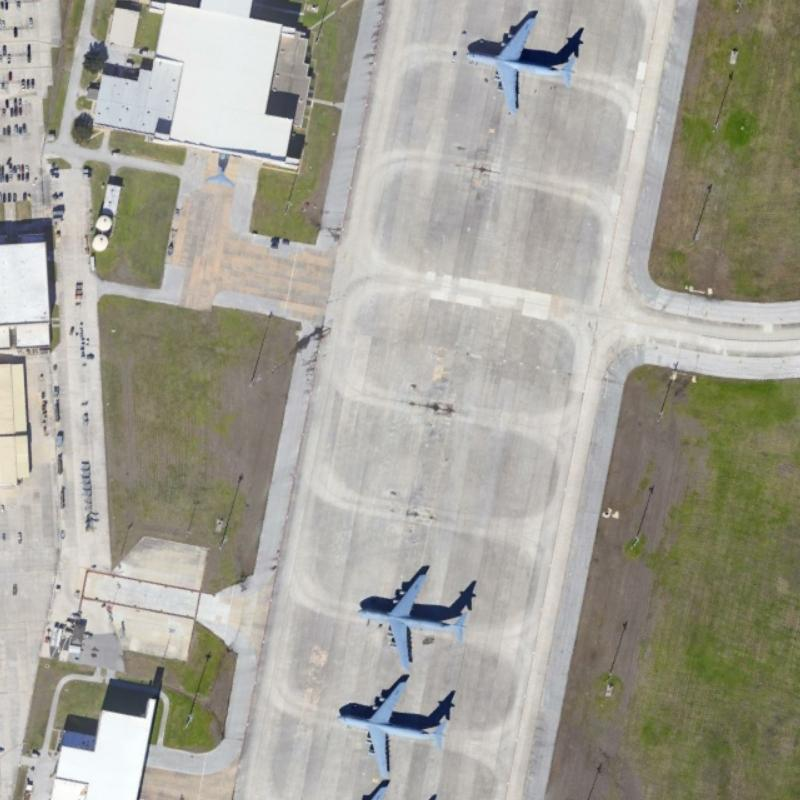A4: (452, 5, 580, 119), (348, 563, 475, 668), (332, 670, 455, 778)
